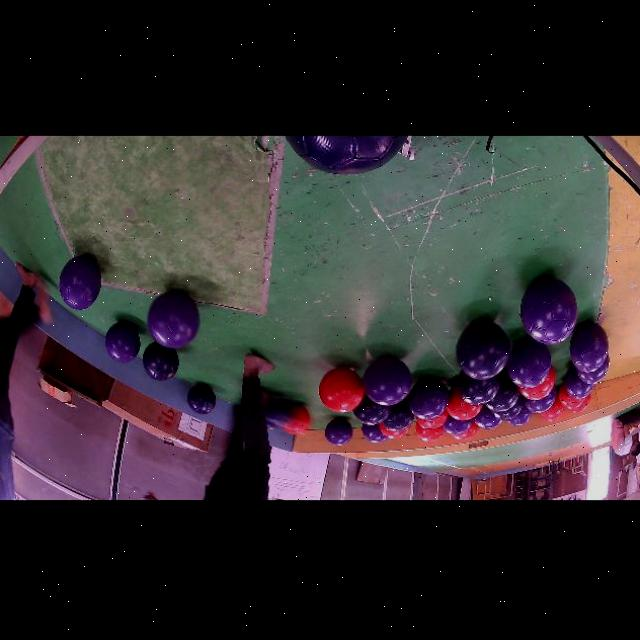B: (286, 136, 415, 175), (456, 320, 511, 380), (458, 371, 501, 405), (486, 369, 520, 412), (143, 342, 179, 381), (353, 396, 392, 426), (383, 398, 415, 431), (187, 384, 216, 414), (493, 395, 524, 421), (265, 401, 292, 427), (267, 421, 278, 431)
P: (521, 276, 578, 345), (148, 290, 199, 348), (363, 356, 412, 405), (507, 337, 551, 389), (59, 257, 102, 310), (570, 323, 608, 372), (408, 377, 450, 421), (106, 322, 140, 364), (577, 355, 610, 385), (564, 365, 593, 399), (525, 386, 556, 413), (325, 418, 353, 446), (474, 405, 502, 429), (443, 415, 473, 434), (362, 424, 388, 443), (507, 406, 531, 426)
R: (318, 369, 364, 413), (446, 386, 482, 421), (519, 367, 555, 400), (282, 404, 310, 434), (559, 383, 584, 409), (540, 396, 565, 421), (417, 410, 449, 428), (416, 423, 445, 442), (454, 422, 479, 441), (379, 424, 411, 438), (570, 394, 591, 413)
